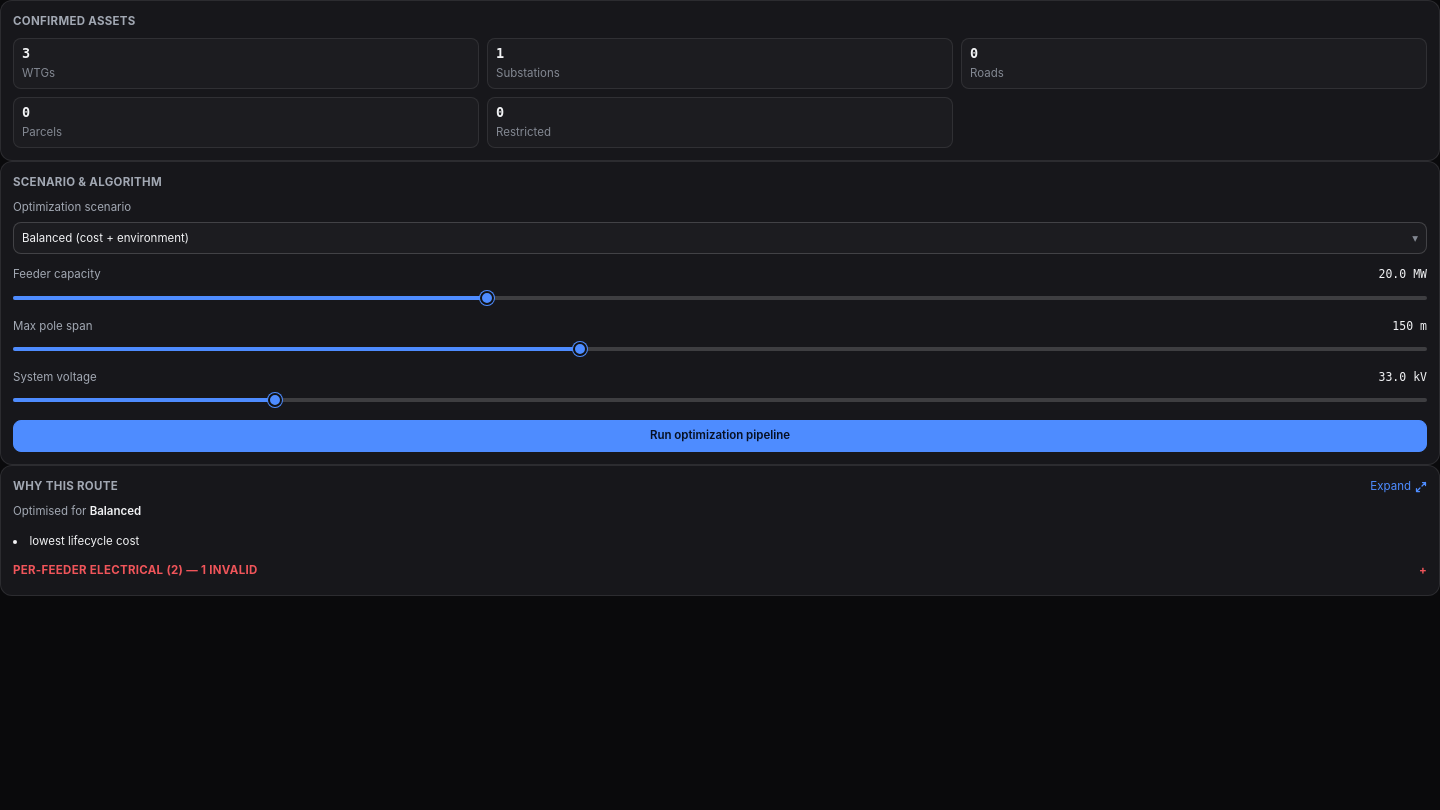
Scenario: per-feeder electrical breakdown › names every feeder with its losses, loading and voltage range when expanded
Click the button "Per-feeder electrical (2) — 1 invalid +" at (92, 570), box [13,562,1427,579]
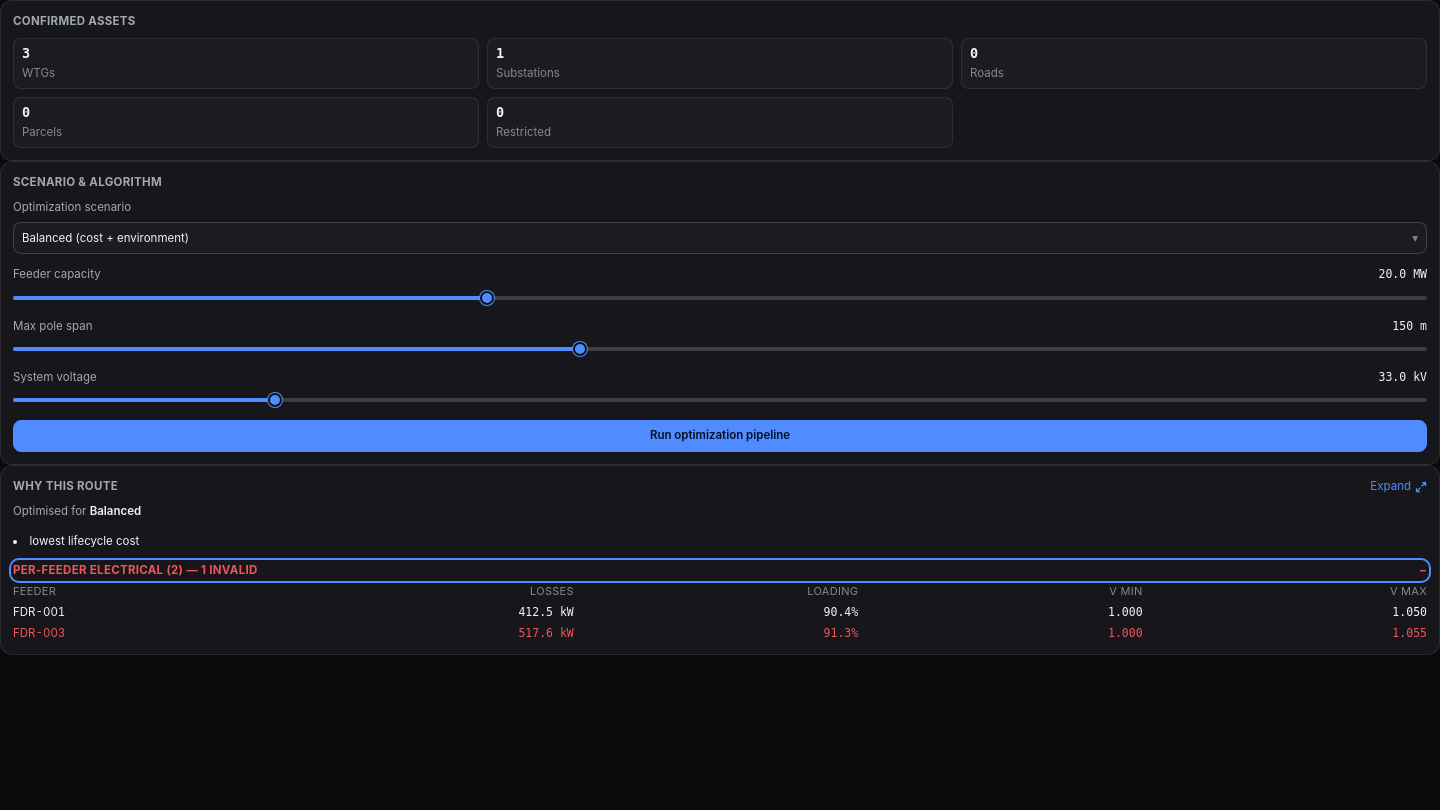
Expected: the text "FDR-001" is shown, [13,604,65,618]
Expected: the text "FDR-003" is shown, [13,626,65,640]
Expected: the text "517.6 kW" is shown, [518,626,574,640]
